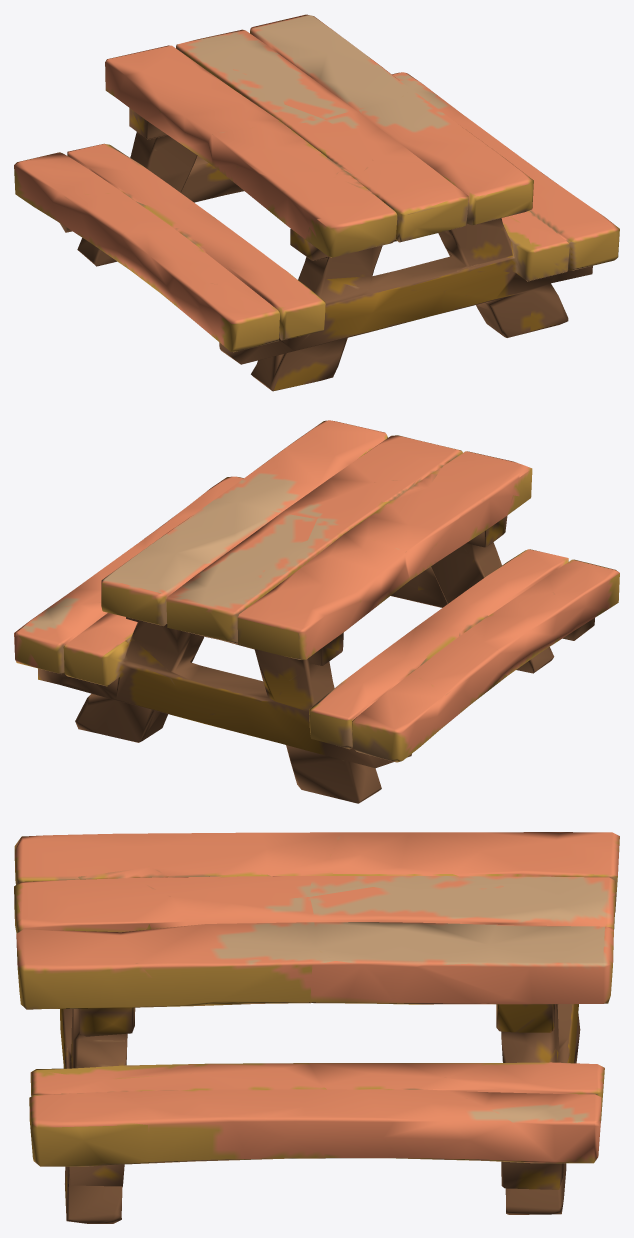
Rendered from picnic-table.glb.
3 views of the same model, one above another, from view 1: azimuth 30°, elevation 25°; view 2: azimuth 150°, elevation 25°; view 3: azimuth 270°, elevation 25° (orthographic). The views are drawn at different scales.
Parts seen in each view (by area): view 1: tripo_node_6abd07d6-d015-4c46-99e6-1d994e2bed99; view 2: tripo_node_6abd07d6-d015-4c46-99e6-1d994e2bed99; view 3: tripo_node_6abd07d6-d015-4c46-99e6-1d994e2bed99.
Boxes of the visible parts, left/top/right/bottom form: tripo_node_6abd07d6-d015-4c46-99e6-1d994e2bed99: left=14, top=14, right=619, bottom=391; tripo_node_6abd07d6-d015-4c46-99e6-1d994e2bed99: left=14, top=420, right=619, bottom=803; tripo_node_6abd07d6-d015-4c46-99e6-1d994e2bed99: left=14, top=832, right=619, bottom=1223.
Bounding box in the file's own units: 0.9781 × 0.4217 × 1.
1 material, 1 textured.
